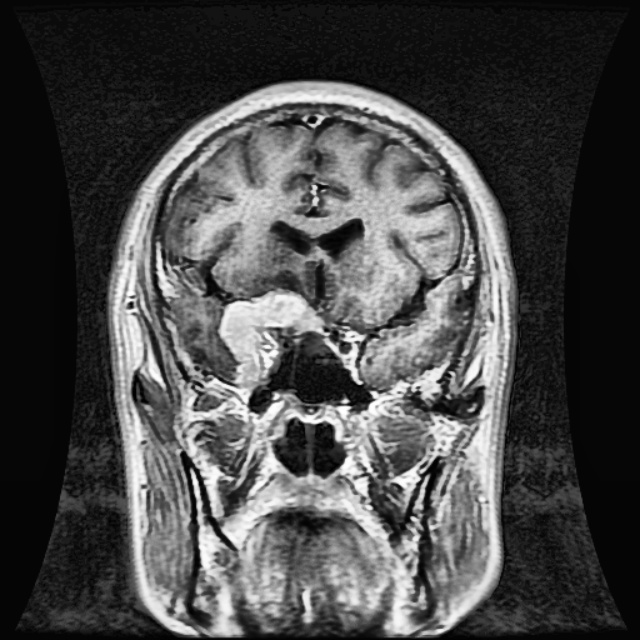Glioma: (219, 292, 323, 388)
